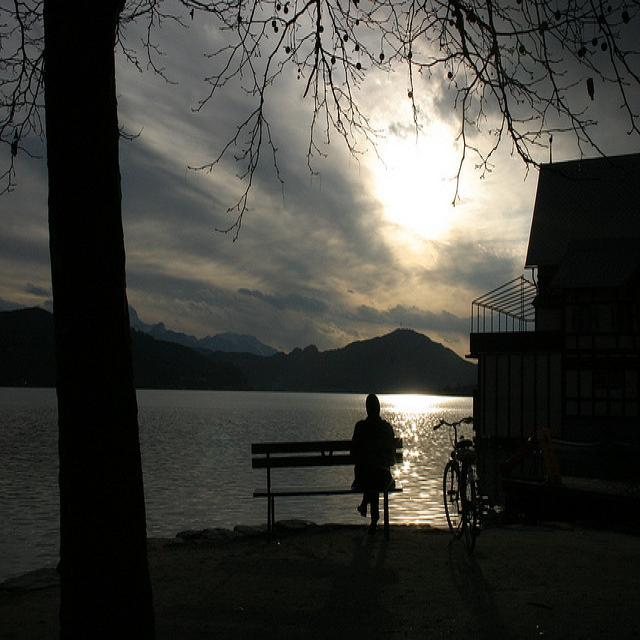Bicycle: (432, 381, 518, 585)
People: (347, 379, 396, 517)
chair: (235, 439, 424, 544)
